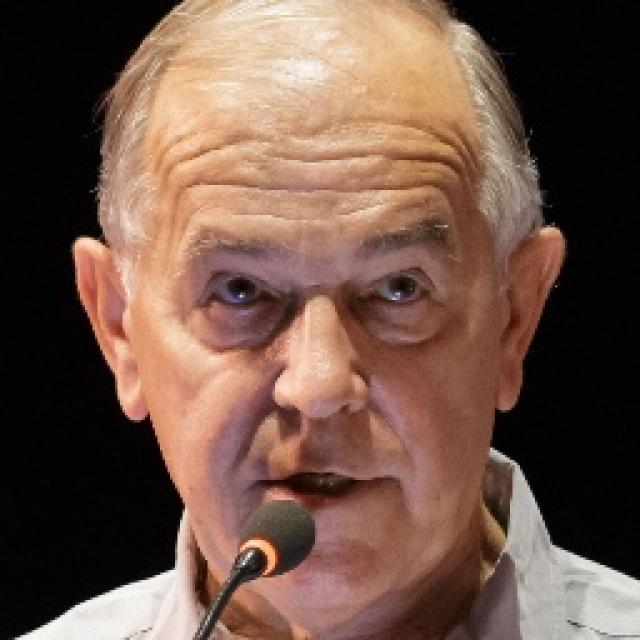earlobe: (494, 223, 568, 417), (72, 239, 148, 424)
